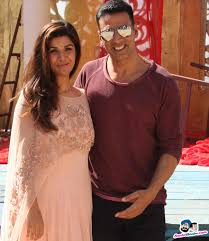Bad: (4, 1, 181, 241)
